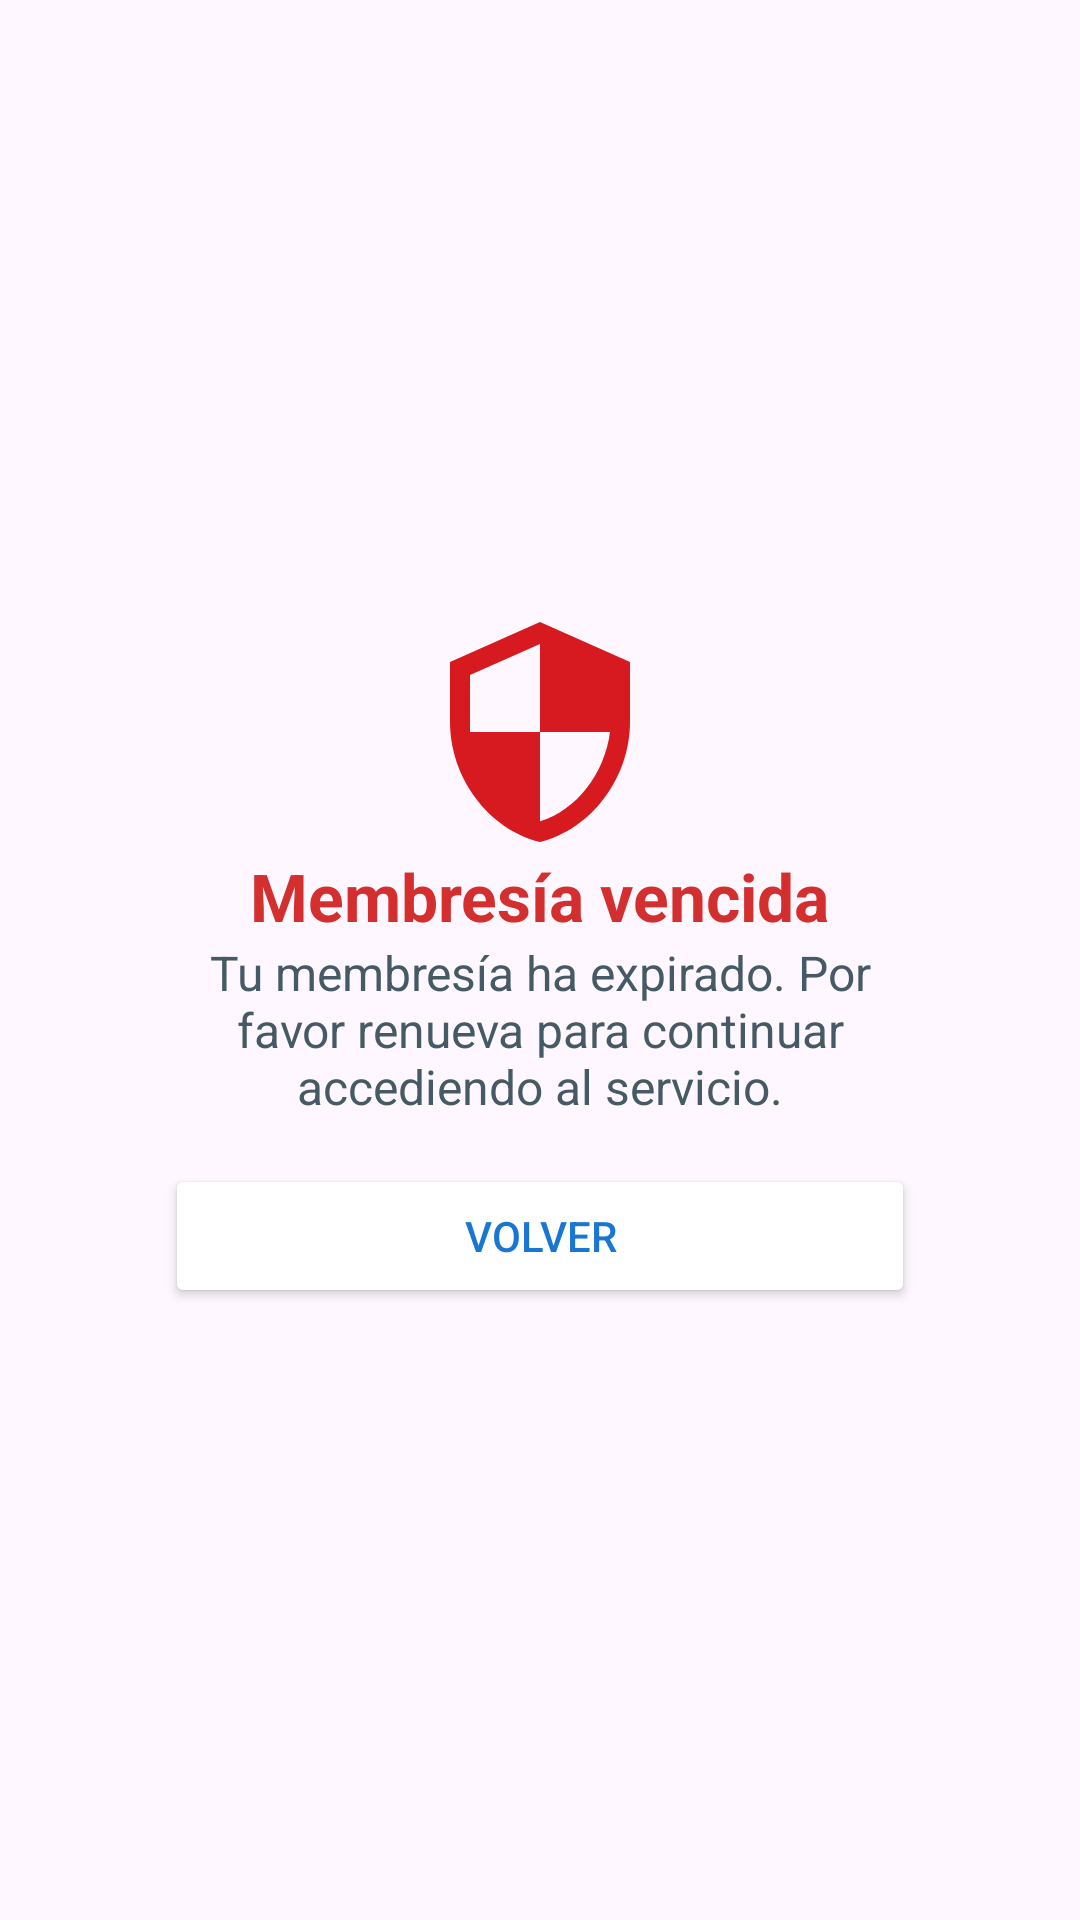

Where to tap for icons on this 1080*1920 app screen, as point (x, y):
bloqueo: point (540, 732)
